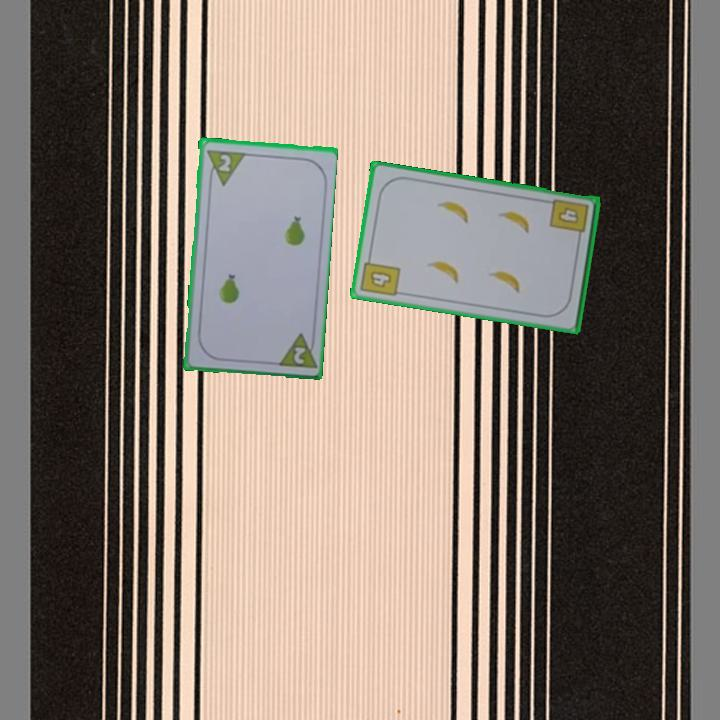2p: (273, 328, 318, 371), (214, 150, 234, 174)
4b: (357, 251, 403, 300), (546, 196, 591, 243)
